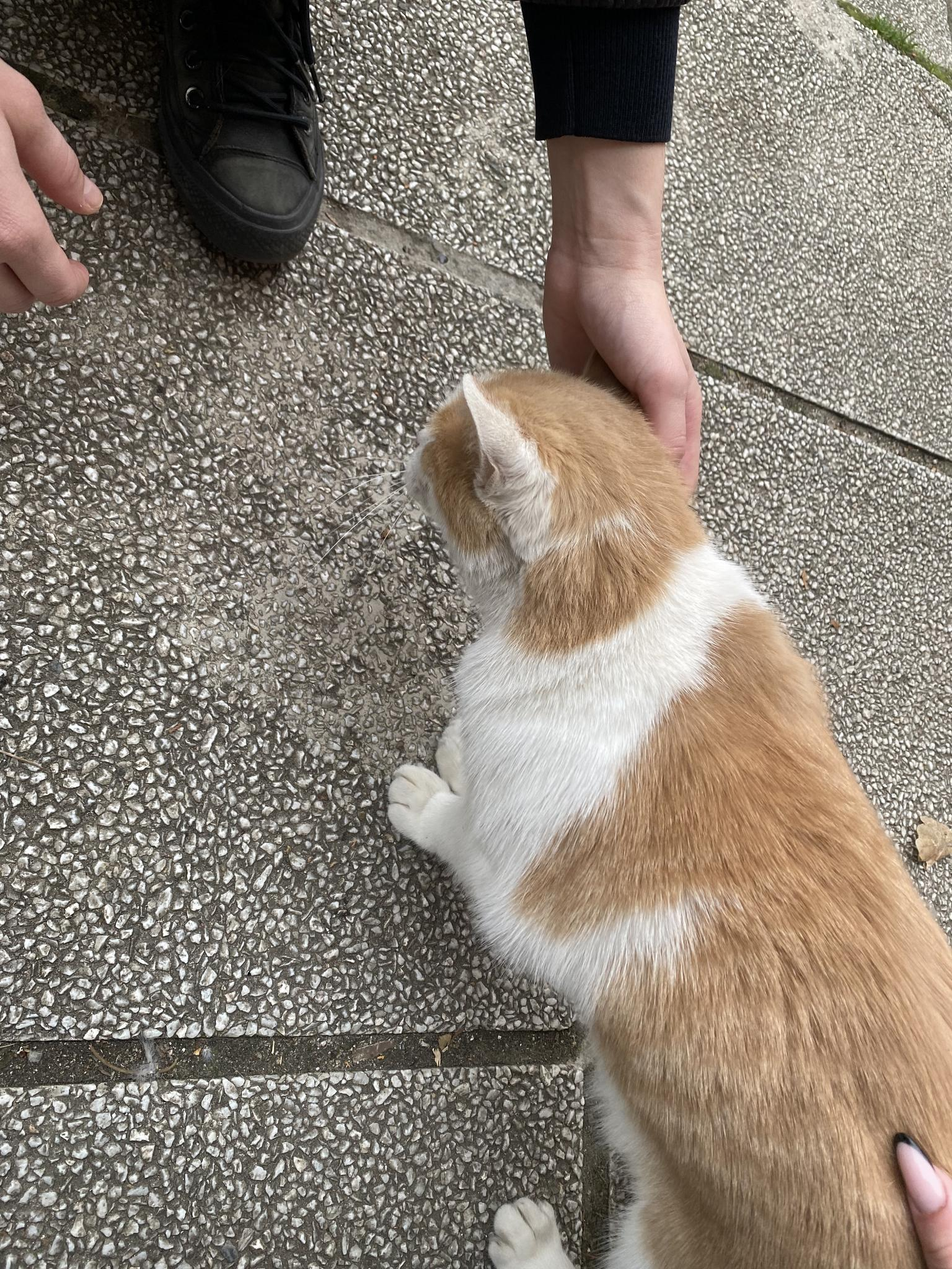macka: (386, 367, 952, 1269)
